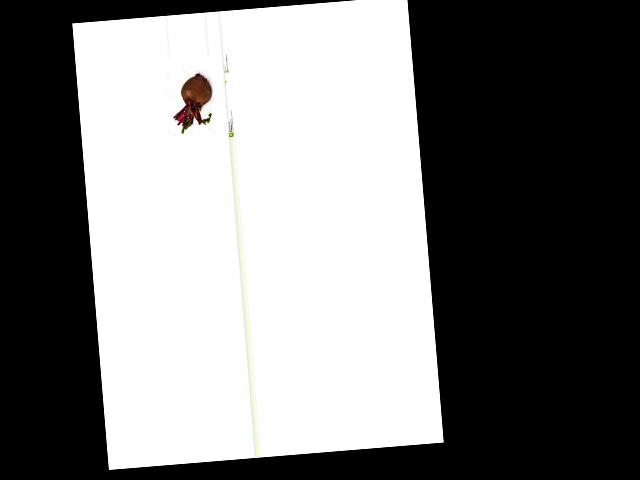beet: (170, 72, 214, 133)
